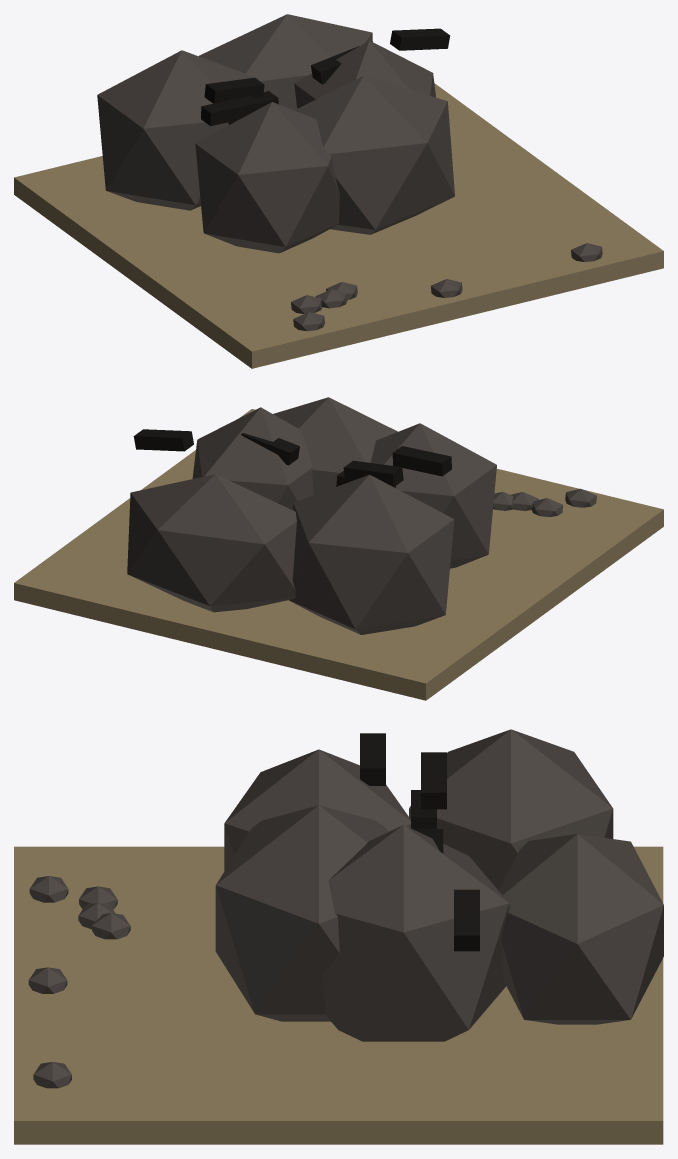
Rendered from Deposit_Coal_Mining.fbx.
3 views of the same model, one above another, from view 1: azimuth 30°, elevation 25°; view 2: azimuth 150°, elevation 25°; view 3: azimuth 270°, elevation 25° (orthographic). The views are drawn at different scales.
Visible parts, largest first — view 1: Deposit_Coal_Mining_Body; view 2: Deposit_Coal_Mining_Body; view 3: Deposit_Coal_Mining_Body.
Part boxes in pixels (x1,y1,x2,y2): Deposit_Coal_Mining_Body: [14, 14, 663, 368]; Deposit_Coal_Mining_Body: [14, 397, 663, 700]; Deposit_Coal_Mining_Body: [14, 729, 663, 1144].
Bounding box in the file's own units: 1 × 0.4016 × 1.
